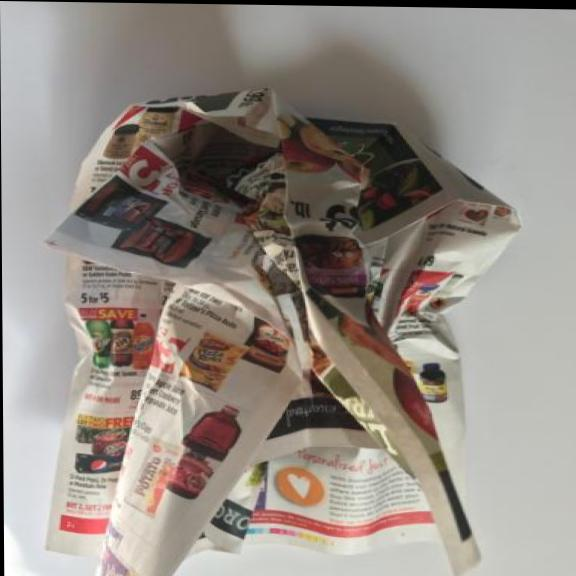Kertas: (24, 76, 533, 576)
